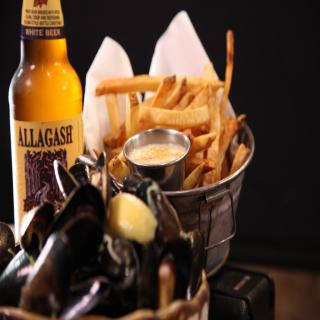French fries: (93, 57, 251, 159)
